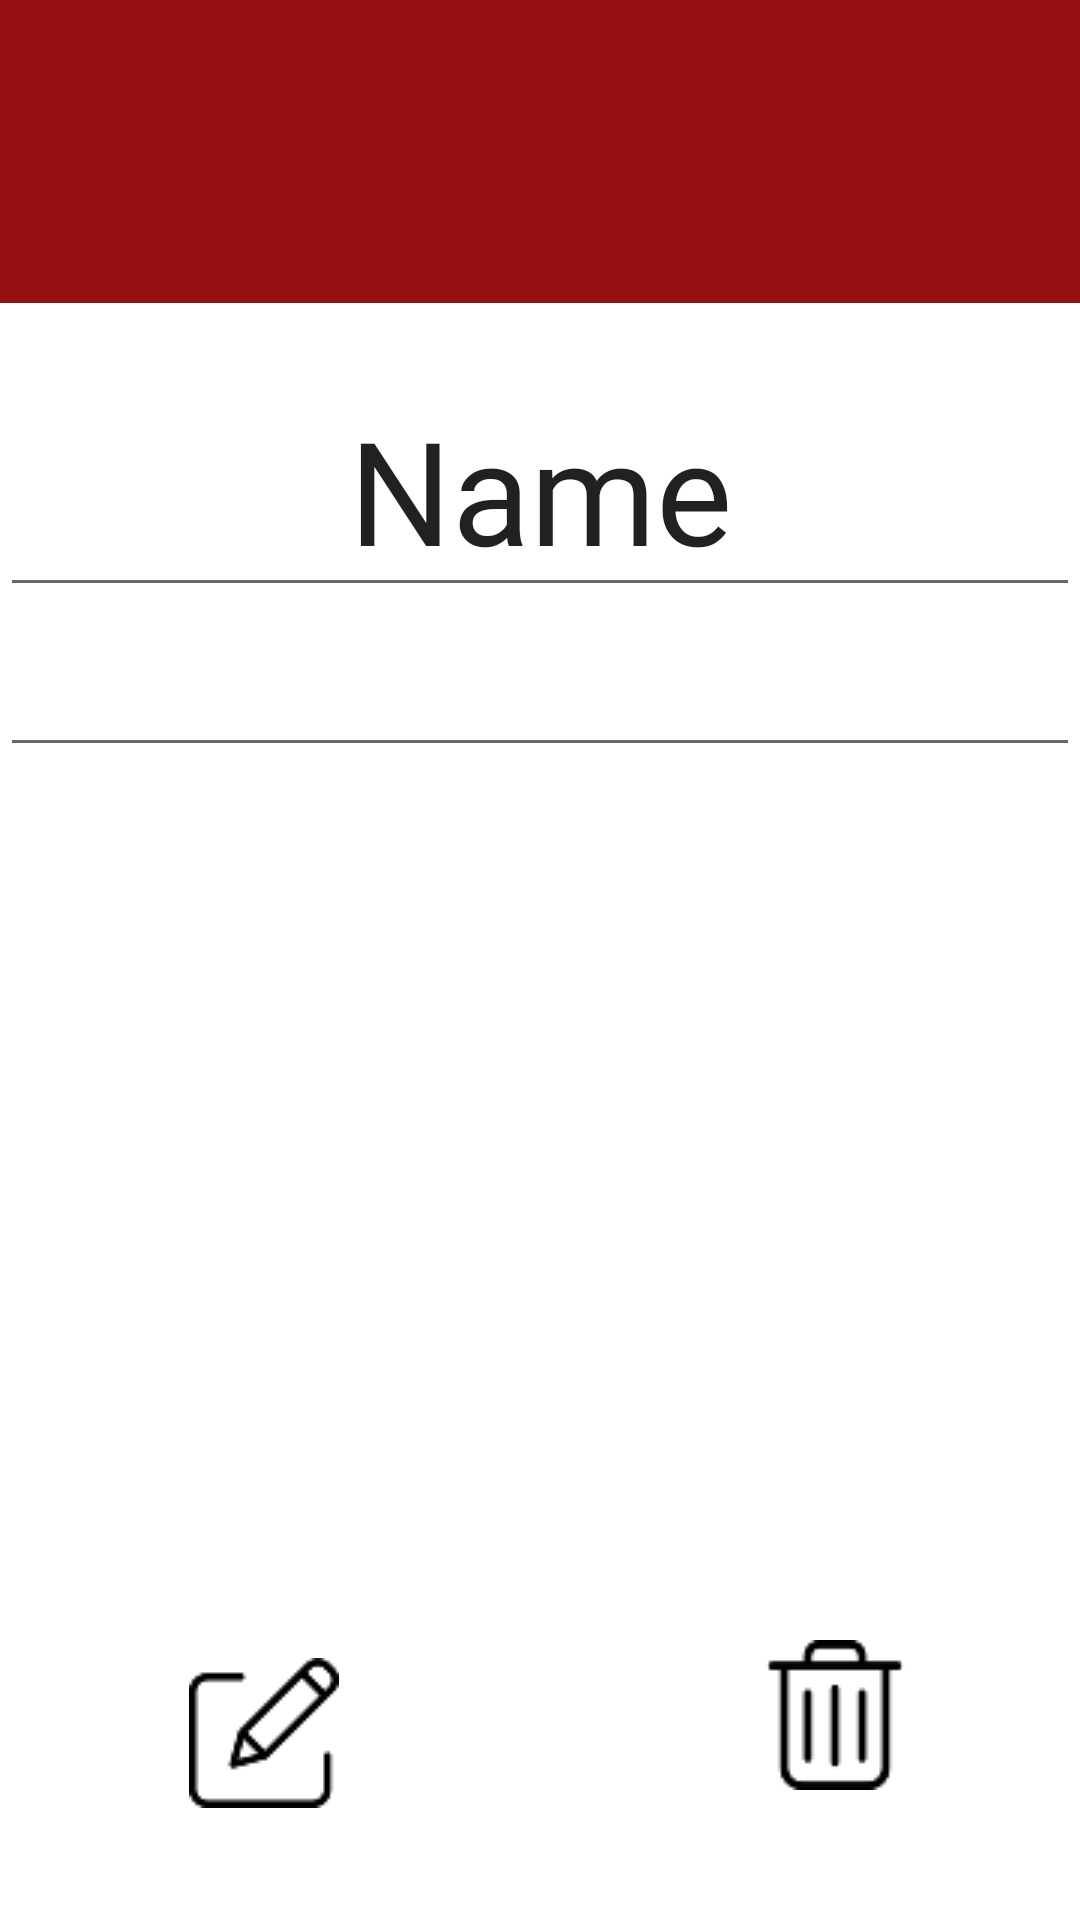

Named icons in this screenshot (1080w x 1920h) and their centers, (x=x, y=y):
edit: (x=264, y=1733)
